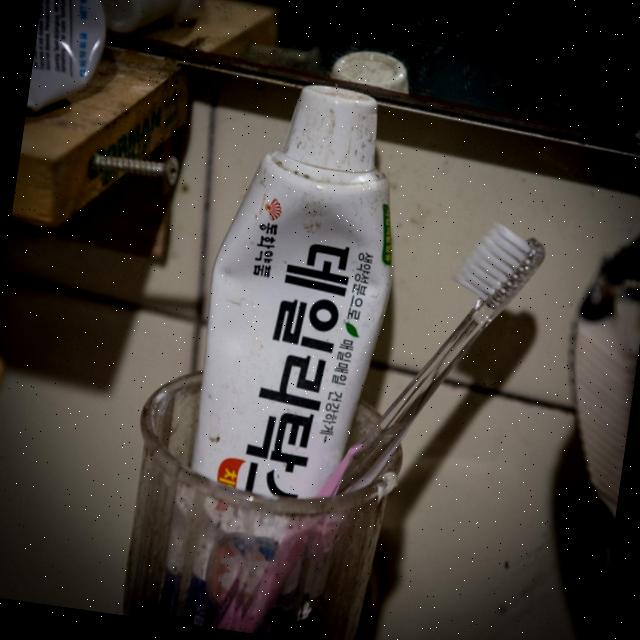Toothpaste: (159, 60, 425, 522)
